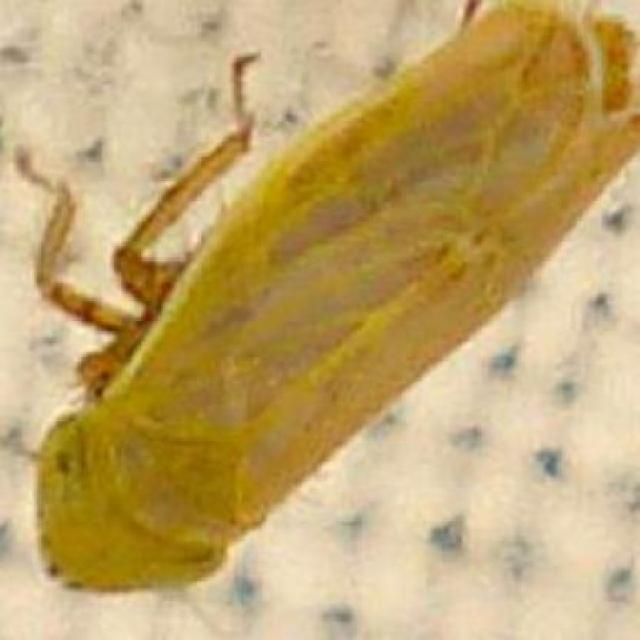green-leafhopper: (42, 5, 629, 598)
